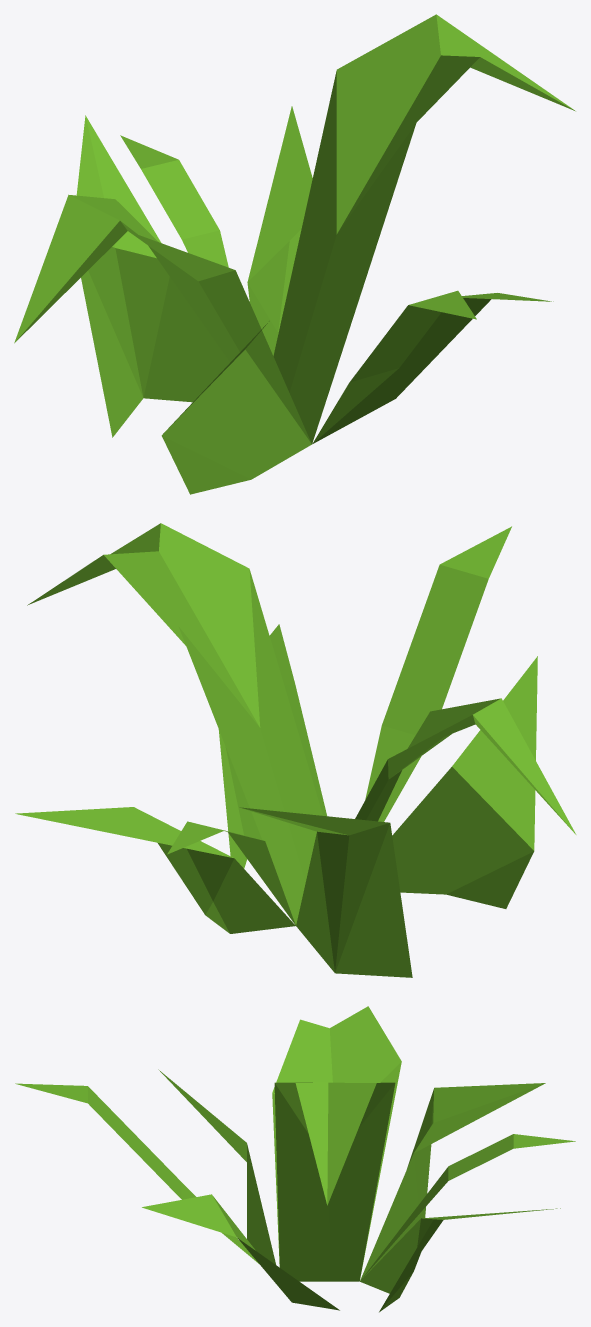
The model's file is Grass-1.gltf.
3 renders of one model, top to bottom at view 1: azimuth 30°, elevation 25°; view 2: azimuth 150°, elevation 25°; view 3: azimuth 270°, elevation 25°, orthographic. The views are drawn at different scales.
Visible parts, largest first — view 1: Cube; view 2: Cube; view 3: Cube.
Boxes of the visible parts, box(x1,y1,x2,y2) form: Cube: box(14, 14, 575, 494); Cube: box(15, 523, 576, 977); Cube: box(15, 1006, 575, 1312).
Size of the model in its own units: 3.93 by 2.34 by 4.3.
